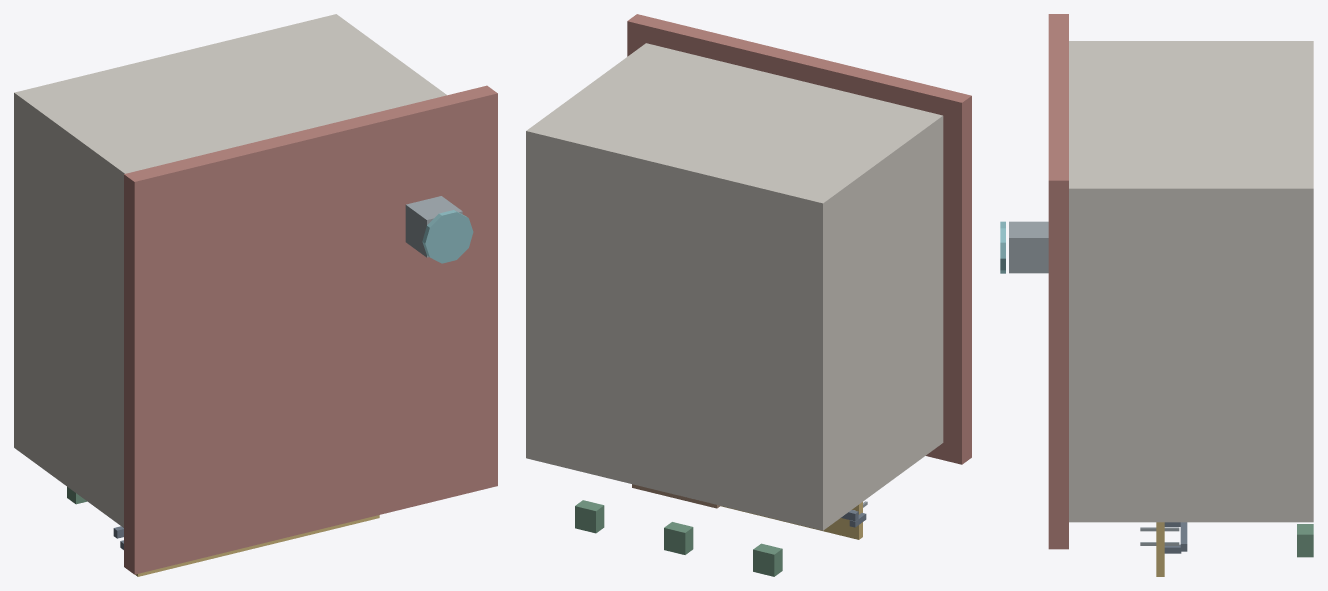
File: kampung_home.glb
3 renders of one model, left to right at view 1: azimuth 30°, elevation 25°; view 2: azimuth 150°, elevation 25°; view 3: azimuth 270°, elevation 25°, orthographic. The views are drawn at different scales.
Parts seen in each view (by area): view 1: roof, wall, glass, metal2, sun; view 2: wall, roof, green, sun; view 3: wall, roof, metal2, green, sun, metal.
Boxes of the visible parts, x1=… form: roof: x1=124, y1=85, x2=497, y2=574; wall: x1=14, y1=14, x2=446, y2=527; glass: x1=422, y1=210, x2=473, y2=263; metal2: x1=405, y1=196, x2=462, y2=257; sun: x1=135, y1=515, x2=379, y2=576; wall: x1=526, y1=43, x2=943, y2=530; roof: x1=627, y1=14, x2=971, y2=464; green: x1=575, y1=500, x2=782, y2=576; sun: x1=721, y1=502, x2=862, y2=539; wall: x1=1069, y1=41, x2=1313, y2=522; roof: x1=1048, y1=14, x2=1068, y2=549; metal2: x1=1009, y1=221, x2=1179, y2=545; green: x1=1297, y1=524, x2=1313, y2=557; sun: x1=1156, y1=522, x2=1164, y2=576; metal: x1=1164, y1=522, x2=1187, y2=553.
Size of the model in its own units: 7.09 by 8.42 by 5.63.
